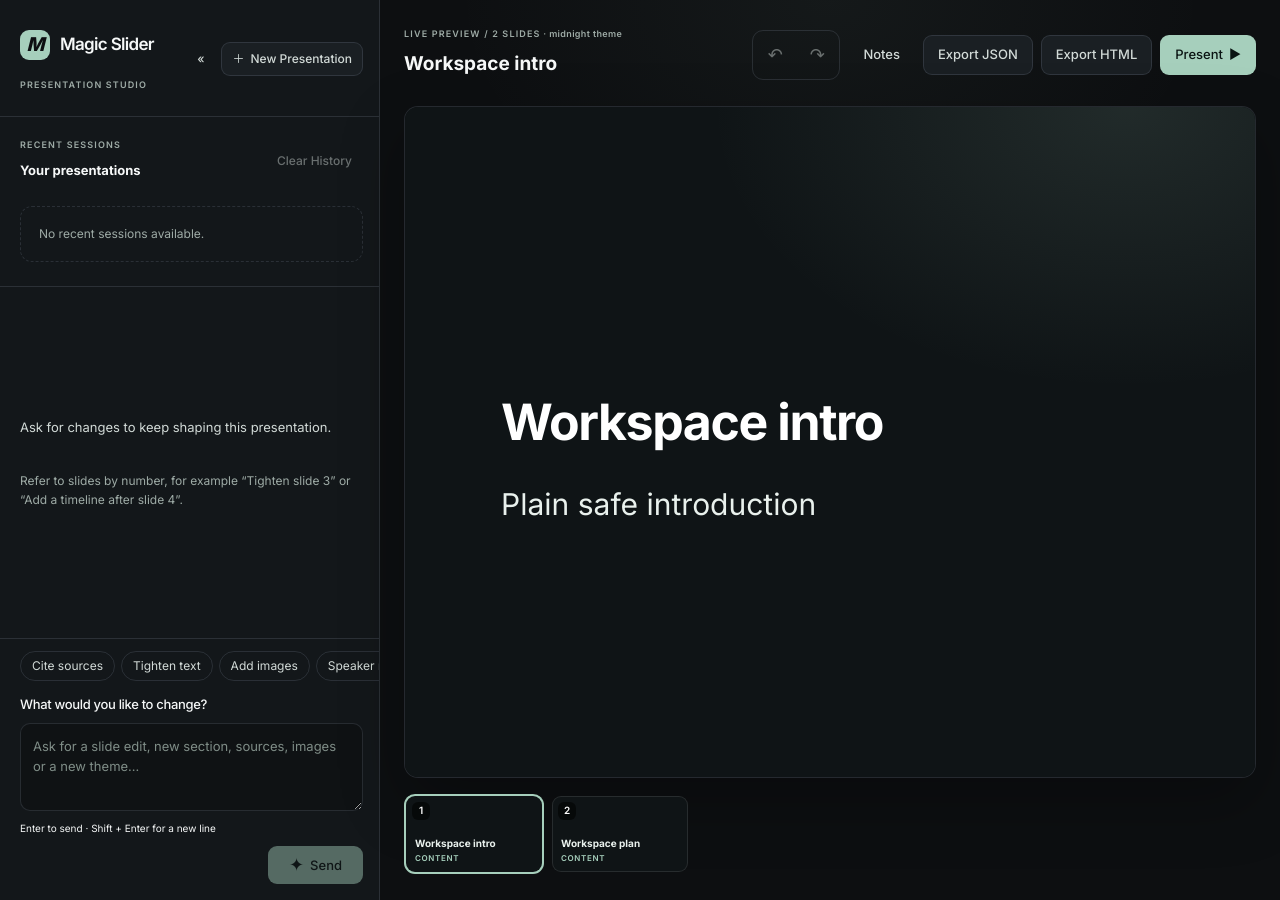
Scenario: Workspace › surfaces export failures and leaves the deck available for retry
Click the button "Export HTML".
click(1097, 55)  # box [1041,35,1152,75]
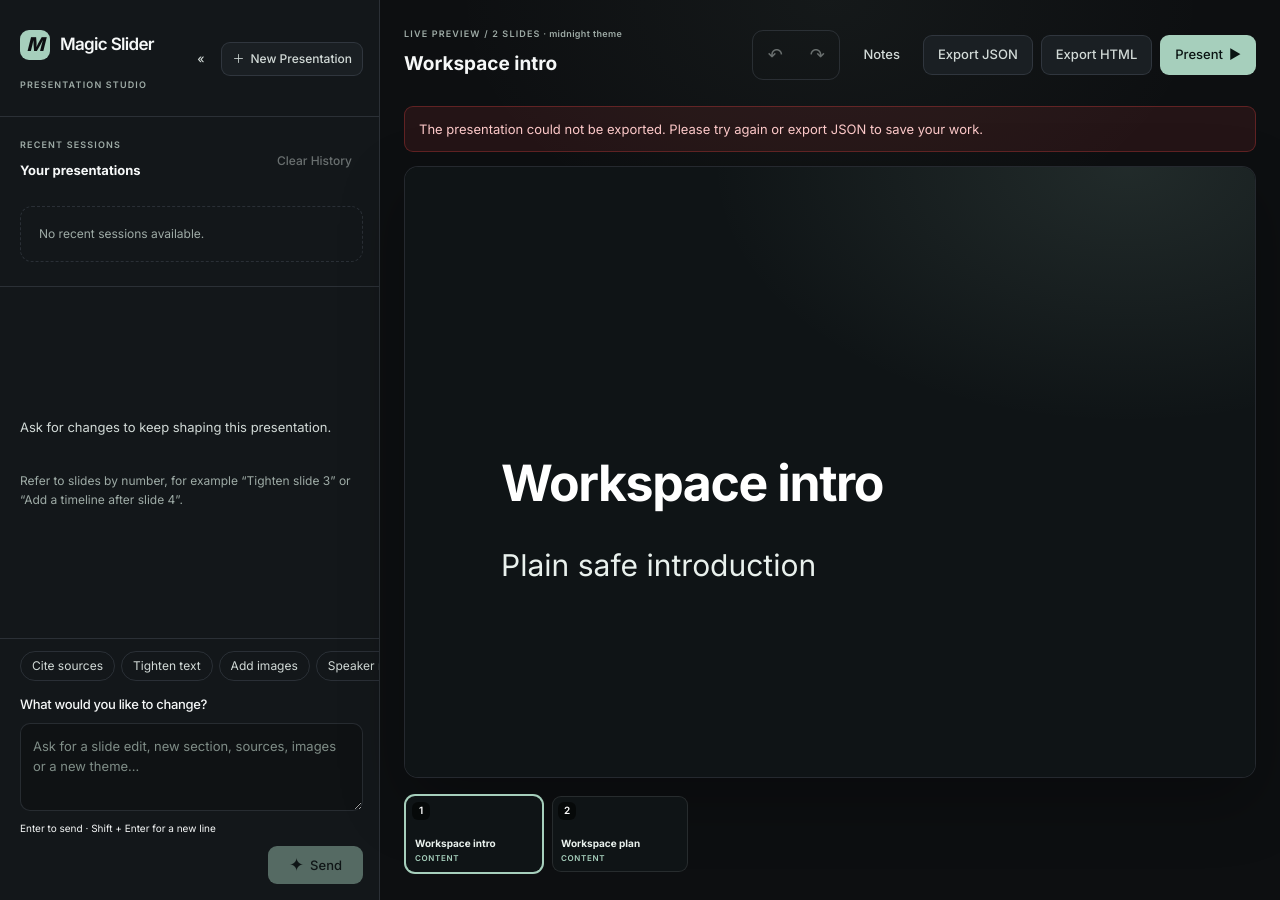
Expected: the element with test id "reveal-slider" is shown, [404,166,1256,778]
Now the message shows "could not be exported", box [419,121,983,137]
